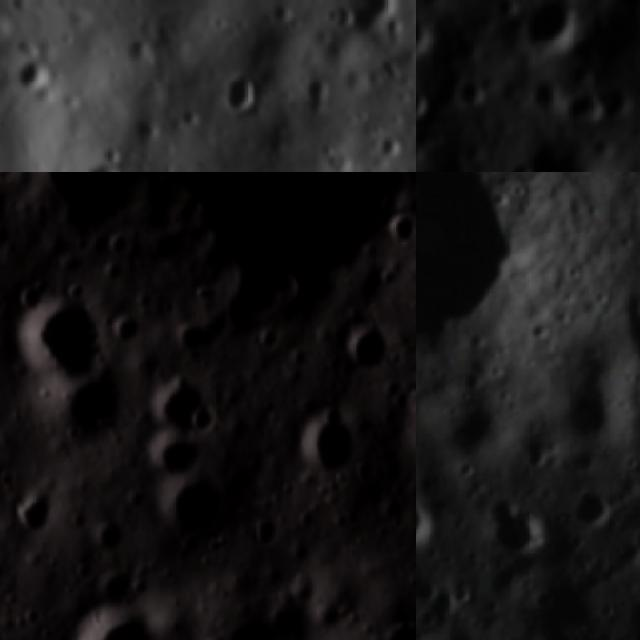crater: (0, 296, 99, 396), (49, 374, 123, 450), (282, 413, 354, 480), (162, 474, 219, 537), (54, 609, 161, 640), (526, 0, 580, 57), (340, 319, 380, 385), (141, 384, 203, 426), (139, 438, 205, 473), (491, 507, 545, 548), (219, 63, 264, 112), (16, 491, 50, 539), (261, 604, 303, 640), (566, 90, 604, 125), (92, 572, 129, 606), (106, 313, 140, 346), (246, 516, 278, 550), (91, 519, 122, 554), (341, 461, 378, 489), (456, 76, 486, 108), (383, 217, 412, 248), (416, 12, 436, 56), (373, 620, 416, 640), (177, 327, 210, 352), (62, 563, 93, 587), (524, 80, 554, 104), (188, 411, 217, 434), (450, 586, 480, 606), (102, 232, 128, 255), (416, 83, 432, 120), (100, 263, 124, 285), (508, 158, 541, 172), (131, 578, 151, 601), (151, 298, 173, 318), (374, 271, 396, 289), (416, 498, 424, 544), (177, 635, 237, 640), (385, 350, 396, 376)
